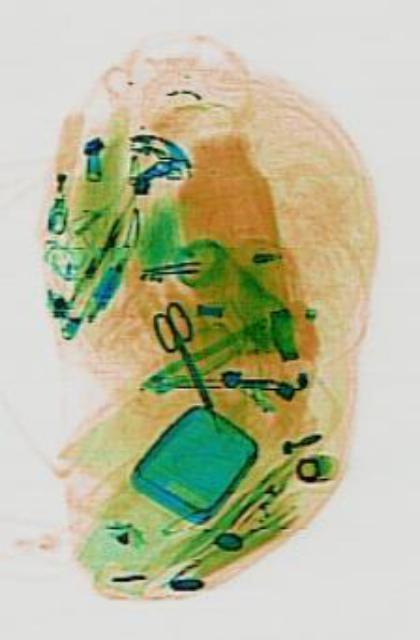Scissors: (144, 292, 222, 424)
